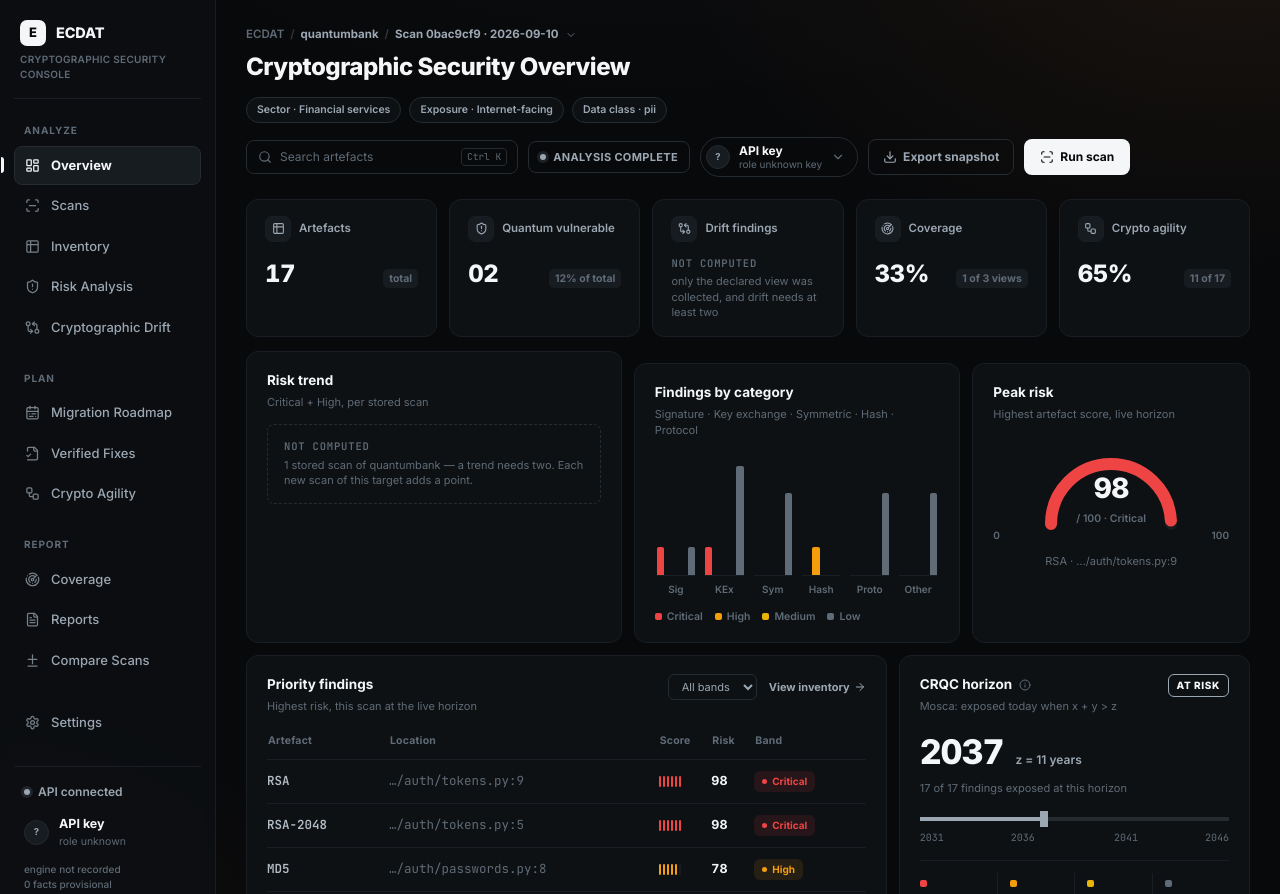
Test: the priority table › a row opens the Inventory drill-down for that artefact
Click the 1st row with test id "priority-row". click: (566, 781)
box: [267,759,866,803]
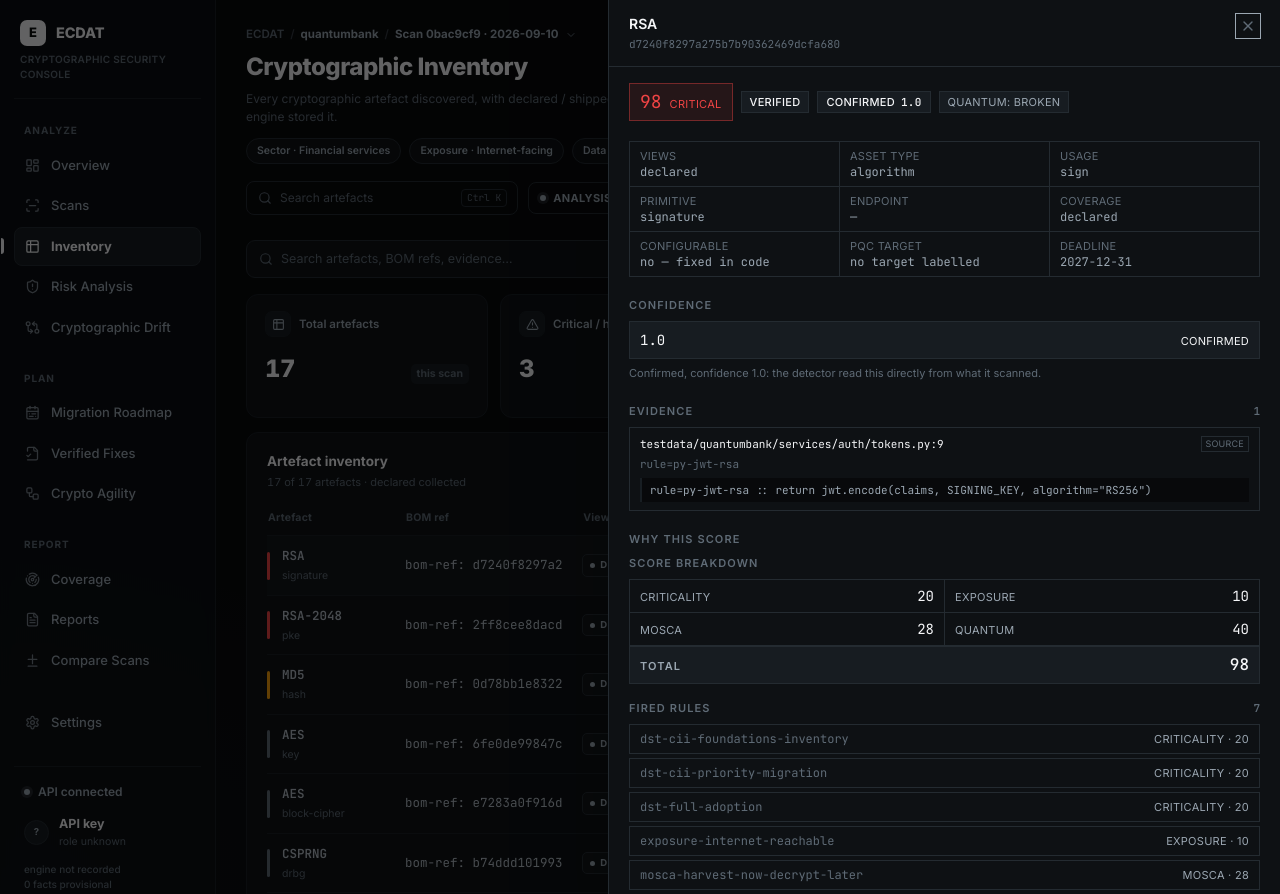
Result: the text "d7240f8297a275b7b90362469dcfa680" is shown at [629,36,840,52]
